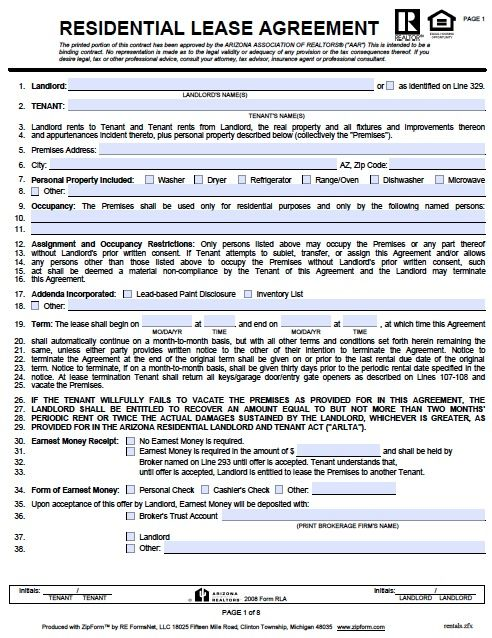checkbox: (366, 172, 382, 186), (123, 530, 139, 542), (142, 174, 157, 186), (123, 542, 137, 554), (234, 174, 248, 186), (273, 482, 284, 497), (434, 173, 446, 186), (384, 80, 397, 92), (198, 484, 212, 495), (125, 435, 137, 447), (243, 288, 255, 300), (300, 174, 312, 186), (121, 289, 134, 300), (125, 483, 136, 495), (192, 174, 204, 185), (123, 511, 136, 521), (125, 445, 136, 456), (30, 185, 40, 197), (30, 300, 40, 311)
textline: (65, 97, 488, 114), (66, 183, 488, 200), (96, 141, 489, 159), (28, 211, 490, 226), (65, 75, 374, 95), (66, 299, 488, 313), (162, 541, 487, 558), (28, 226, 488, 238), (220, 507, 487, 525), (47, 157, 337, 173), (295, 441, 381, 461), (310, 480, 398, 499), (388, 157, 487, 172), (398, 586, 479, 598), (139, 314, 193, 330), (277, 317, 333, 330), (40, 586, 111, 596), (202, 314, 238, 329), (340, 316, 380, 329)
